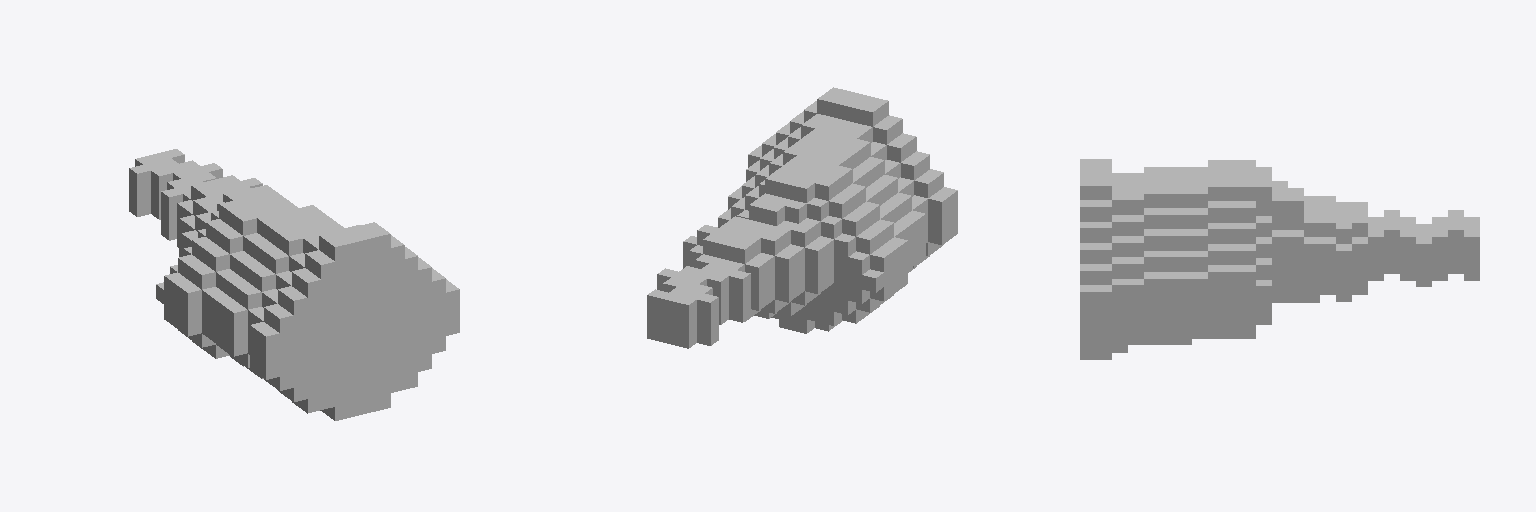
Rendered from rattail.obj.
3 views of the same model, side by side, from view 1: azimuth 30°, elevation 25°; view 2: azimuth 150°, elevation 25°; view 3: azimuth 270°, elevation 25° (orthographic).
Parts seen in each view (by area): view 1: object 1; view 2: object 1; view 3: object 1.
Part boxes in pixels (x1,y1,x2,y2): object 1: (129, 149, 459, 420); object 1: (647, 87, 957, 348); object 1: (1080, 159, 1479, 359).
Size of the model in its own units: 1.5 by 1.2 by 2.5.